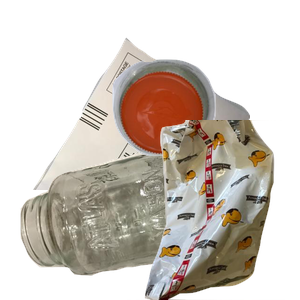glass: (18, 143, 227, 300)
paper: (31, 35, 271, 215)
plastic: (110, 57, 300, 205)
trash: (127, 120, 300, 300)
